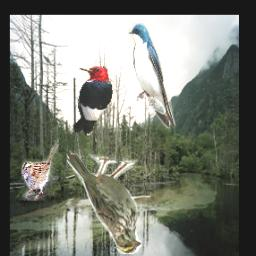Sparrow: (66, 151, 141, 255), (21, 139, 59, 201)
Swallow: (129, 24, 176, 129)
Woodpecker: (73, 66, 113, 135)
